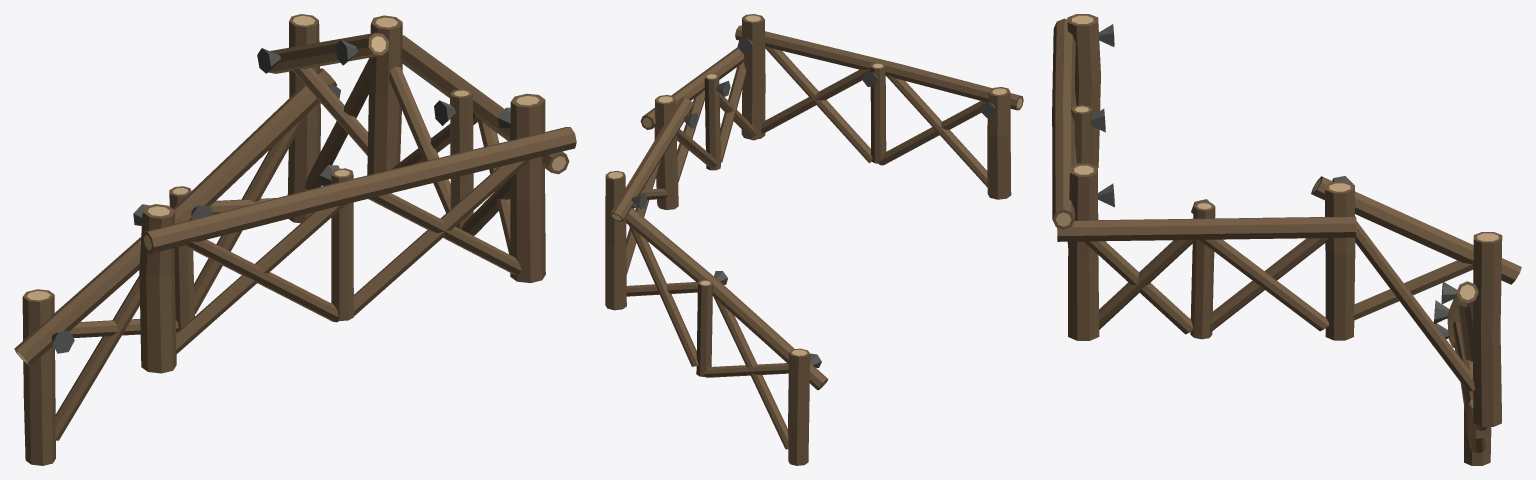
The model's file is rpgpp_ag_stairs_interior_02b_3m_handrail_01.fbx.
The picture shows the model from 3 angles, left to right: view 1: azimuth 30°, elevation 25°; view 2: azimuth 150°, elevation 25°; view 3: azimuth 270°, elevation 25°; orthographic projection. The views are drawn at different scales.
Parts seen in each view (by area): view 1: rpgpp_ag_stairs_interior_02b_3m_handrail_01; view 2: rpgpp_ag_stairs_interior_02b_3m_handrail_01; view 3: rpgpp_ag_stairs_interior_02b_3m_handrail_01.
Boxes of the visible parts, box(x1,y1,x2,y2) form: rpgpp_ag_stairs_interior_02b_3m_handrail_01: box(14, 14, 576, 465); rpgpp_ag_stairs_interior_02b_3m_handrail_01: box(605, 14, 1023, 465); rpgpp_ag_stairs_interior_02b_3m_handrail_01: box(1052, 14, 1521, 465).
Size of the model in its own units: 4.4 by 4.42 by 4.52.
